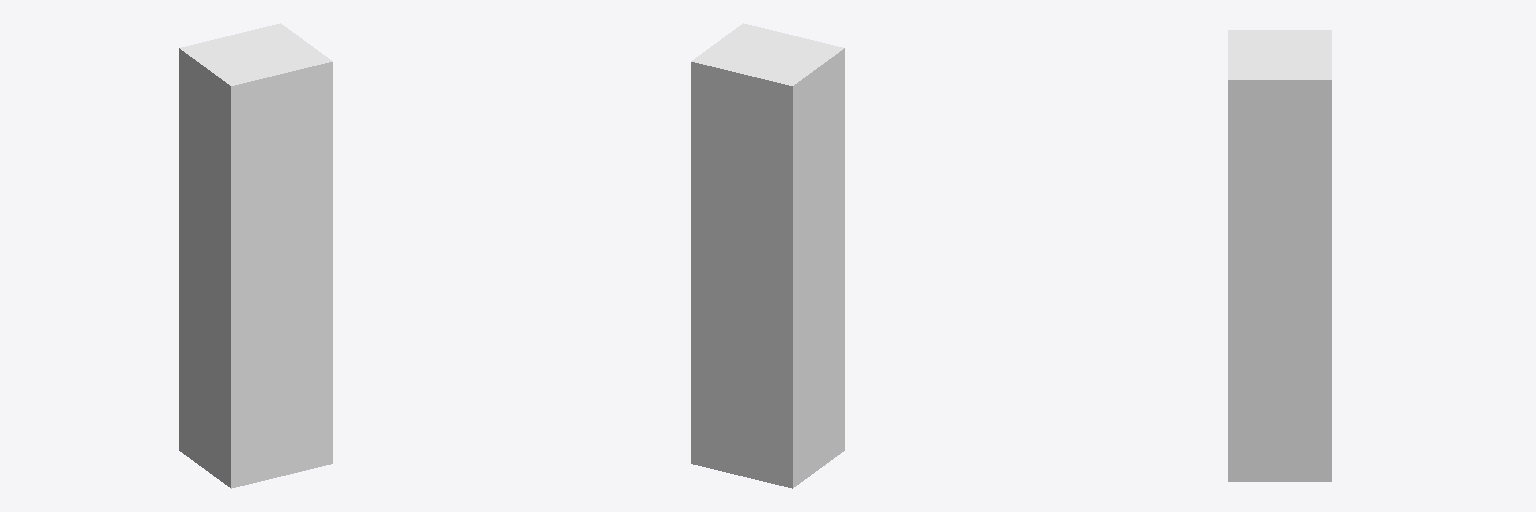
File: GothSignal.obj
The picture shows the model from 3 angles: view 1: azimuth 30°, elevation 25°; view 2: azimuth 150°, elevation 25°; view 3: azimuth 270°, elevation 25°; orthographic projection.
Parts seen in each view (by area): view 1: object 1; view 2: object 1; view 3: object 1.
Part boxes in pixels (x1,y1,x2,y2): object 1: (179,23,332,488); object 1: (691,23,844,488); object 1: (1228,30,1331,481).
Bounding box in the file's own units: 0.9 × 3.4 × 0.8.